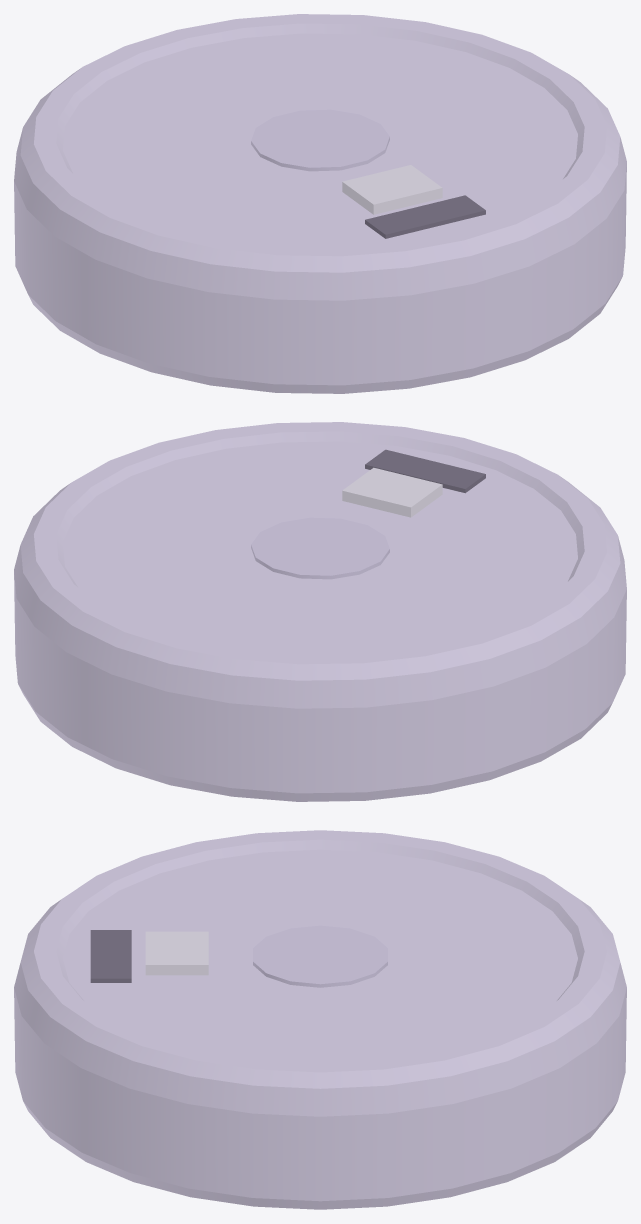
File: lid.glb
3 renders of one model, top to bottom at view 1: azimuth 30°, elevation 25°; view 2: azimuth 150°, elevation 25°; view 3: azimuth 270°, elevation 25°, orthographic.
Parts seen in each view (by area): view 1: lid_m0; view 2: lid_m0; view 3: lid_m0.
Part boxes in pixels (x1,y1,x2,y2): lid_m0: (14,14,626,393); lid_m0: (14,422,626,801); lid_m0: (14,830,626,1209).
Bounding box in the file's own units: 0.0928 × 0.0225 × 0.0928.
